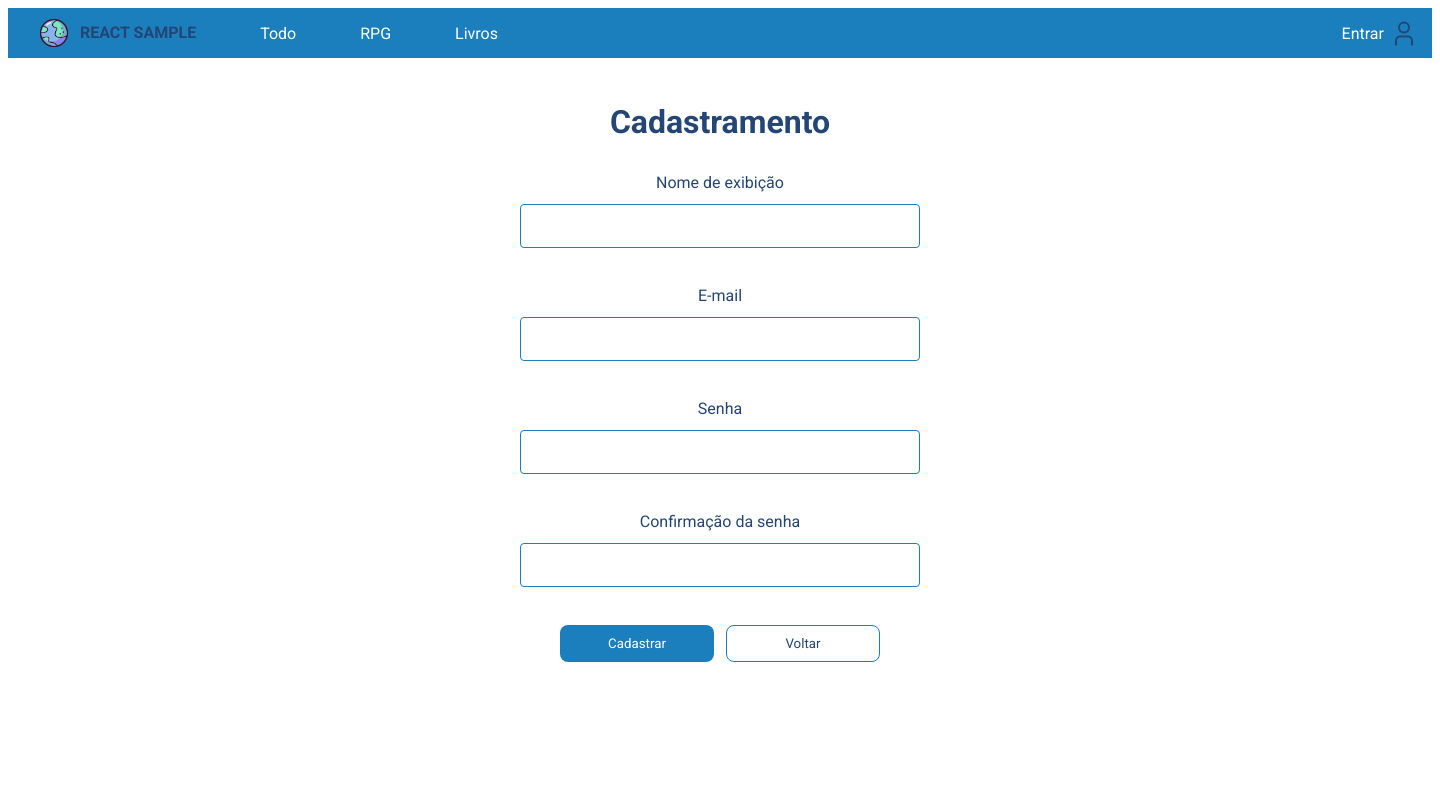
RegisterPage › deve exibir mensagem de erro se número mínimo da senha for menor que 6
The image size is (1440, 810).
Type "123" into the password field titled "password" at (720, 452), box x1=520 y1=430 x2=920 y2=474
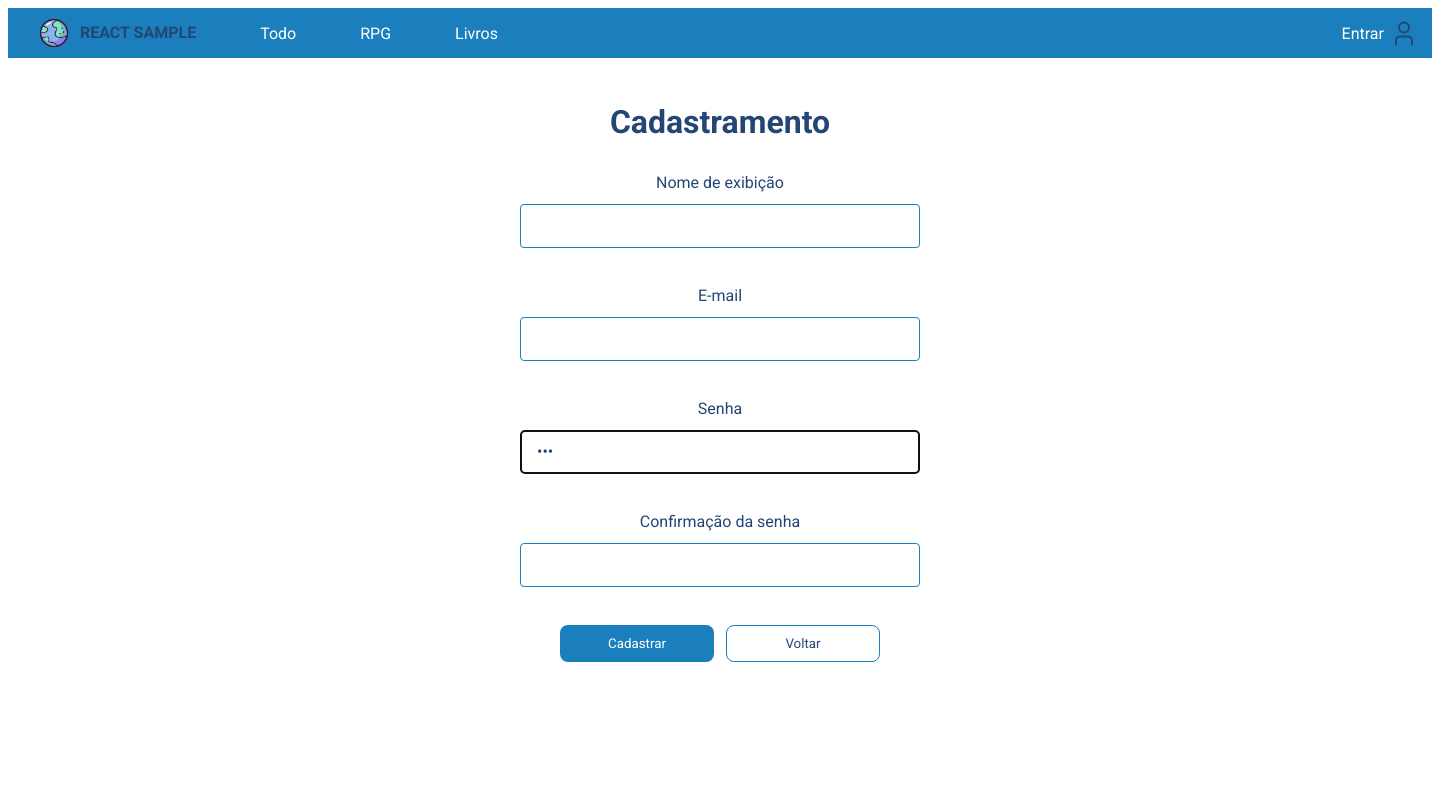
Click the button "Cadastrar" at (637, 643), box x1=560 y1=625 x2=714 y2=662
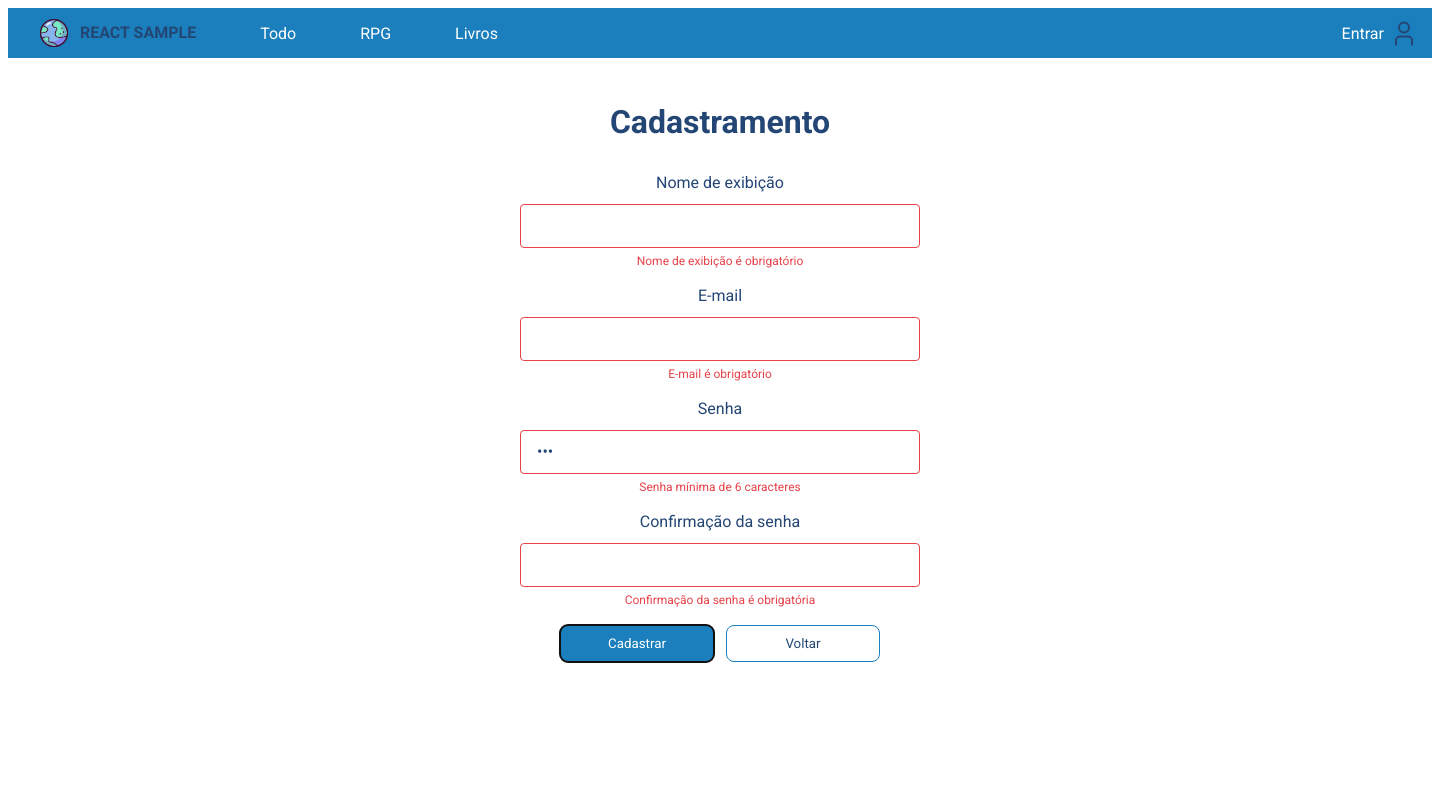
Result: the text "Senha mínima de 6 caracteres" is shown at x1=639 y1=480 x2=801 y2=494
